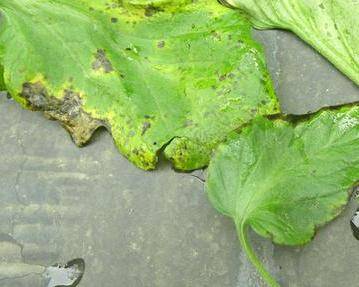Tomato leaf bacterial spot: (0, 0, 292, 170)
